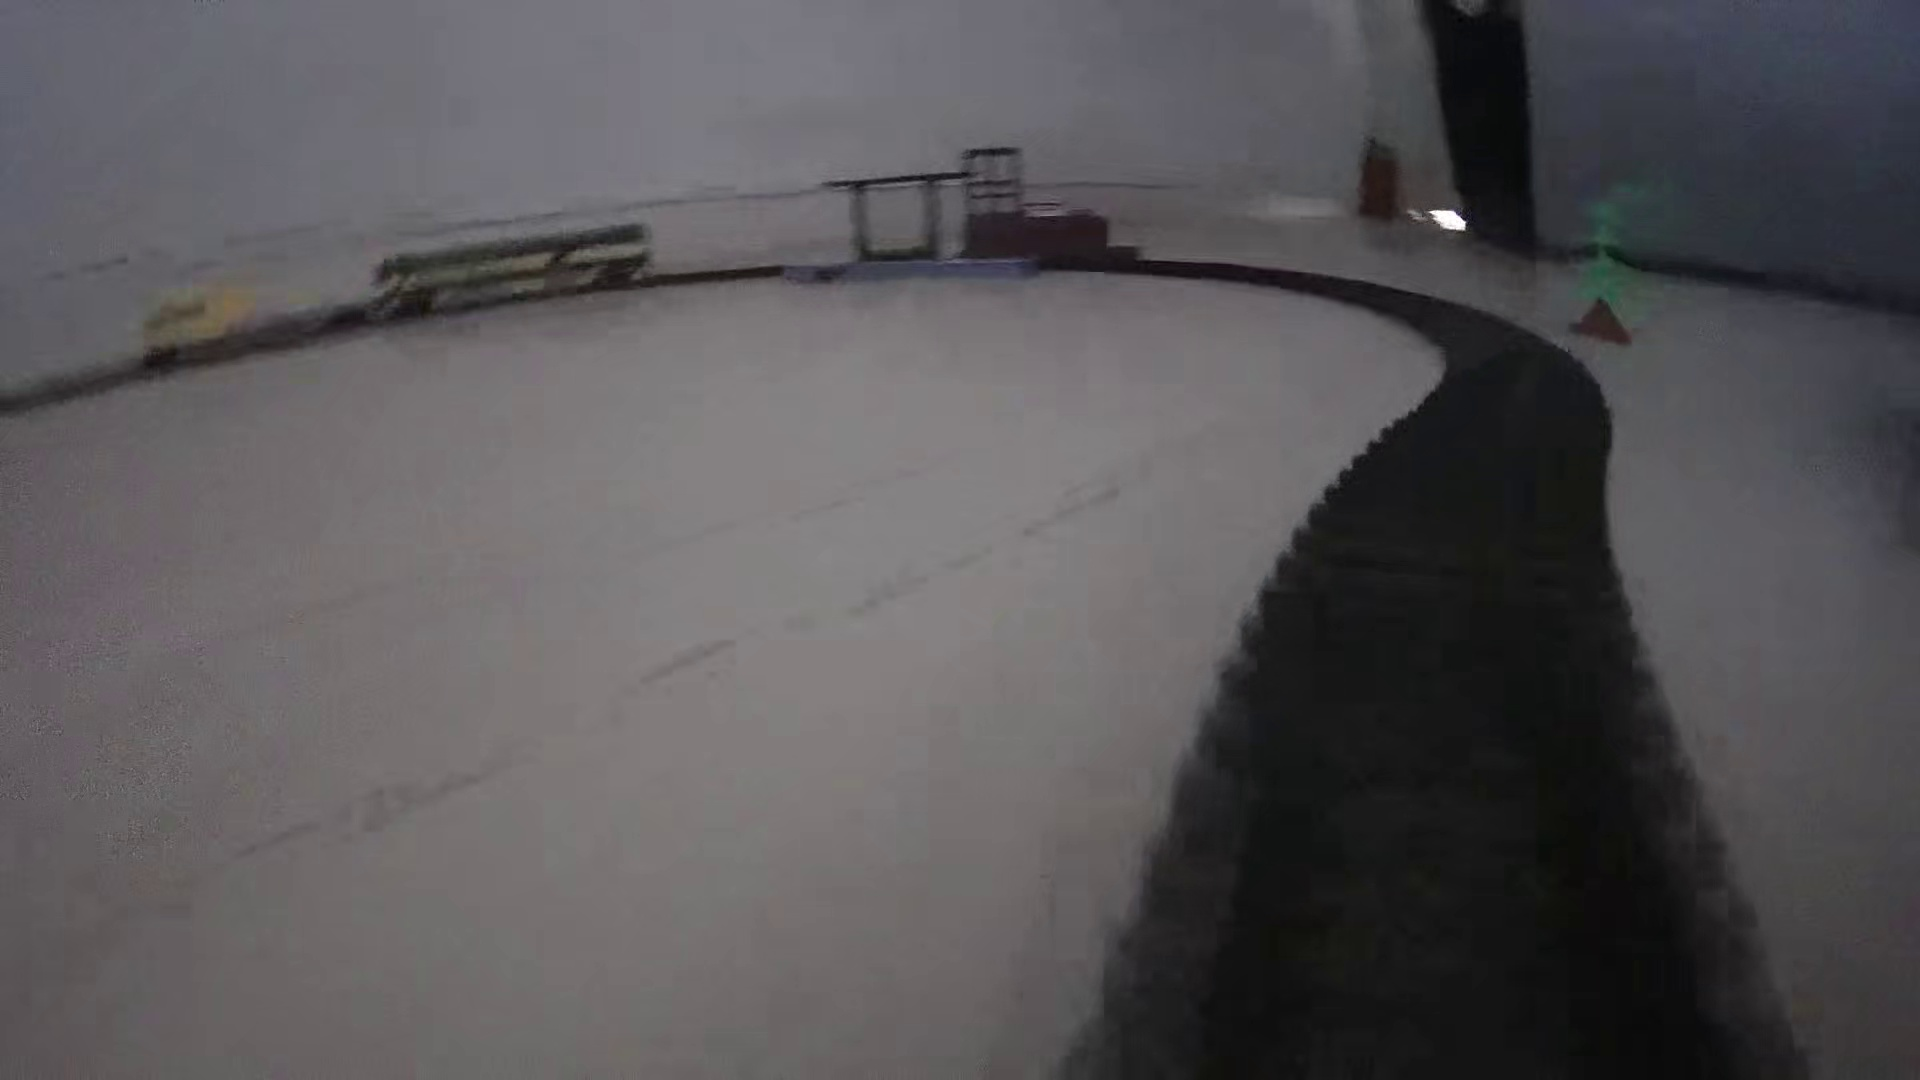tree: (1557, 168, 1647, 354)
